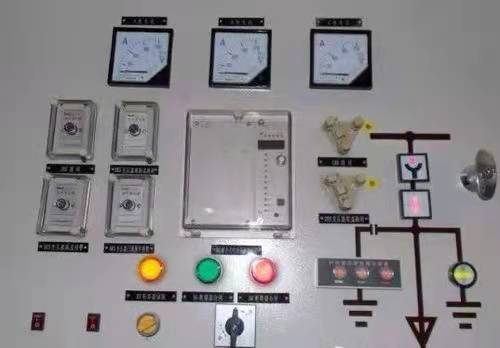pointer: (212, 28, 269, 87), (111, 27, 169, 83), (313, 29, 370, 85)
